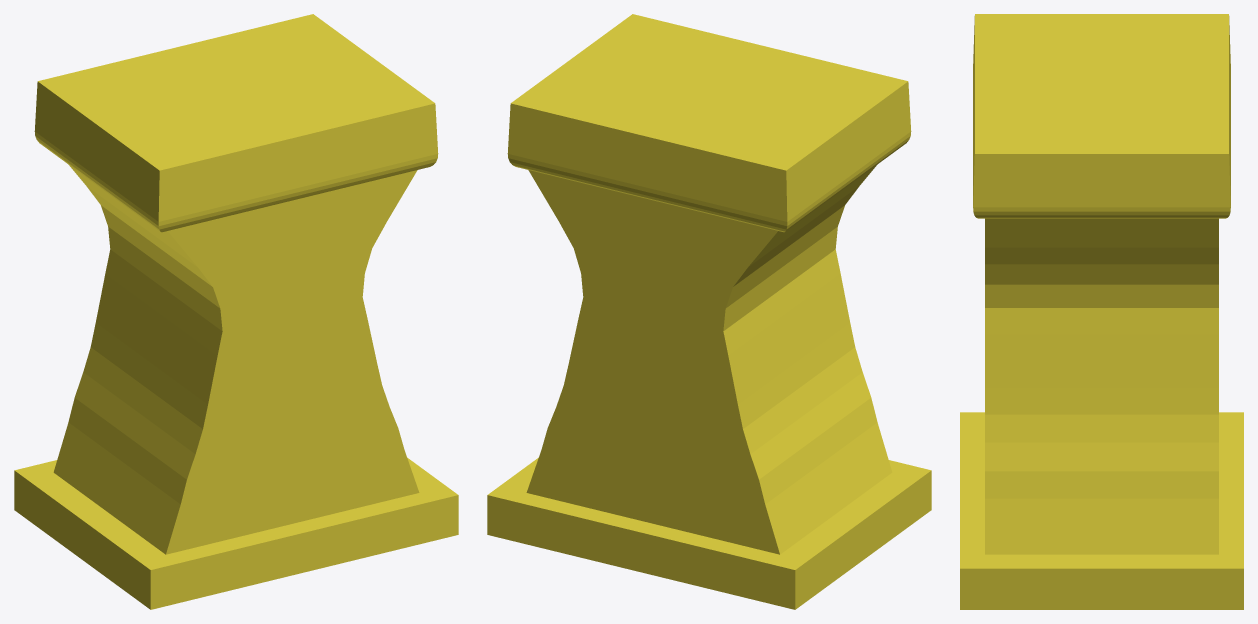
File: SuporteMonumentoTelhado.fbx
3 views of the same model, side by side, from view 1: azimuth 30°, elevation 25°; view 2: azimuth 150°, elevation 25°; view 3: azimuth 270°, elevation 25° (orthographic). The views are drawn at different scales.
Parts seen in each view (by area): view 1: SuporteMonumentoTelhado; view 2: SuporteMonumentoTelhado; view 3: SuporteMonumentoTelhado.
Boxes of the visible parts, box(x1,y1,x2,y2) form: SuporteMonumentoTelhado: box(14, 14, 458, 609); SuporteMonumentoTelhado: box(487, 14, 931, 609); SuporteMonumentoTelhado: box(960, 14, 1243, 609).
Bounding box in the file's own units: 52.04 × 69.5 × 39.92.
